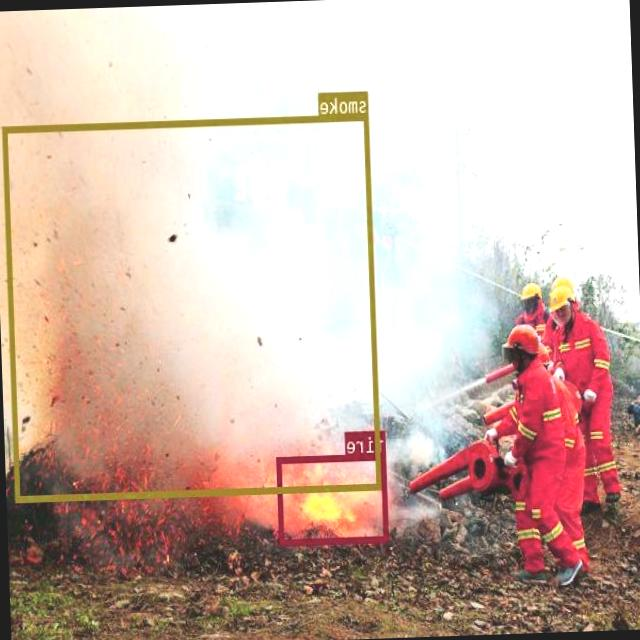fire: (277, 451, 389, 544)
smoke: (4, 112, 382, 500)
